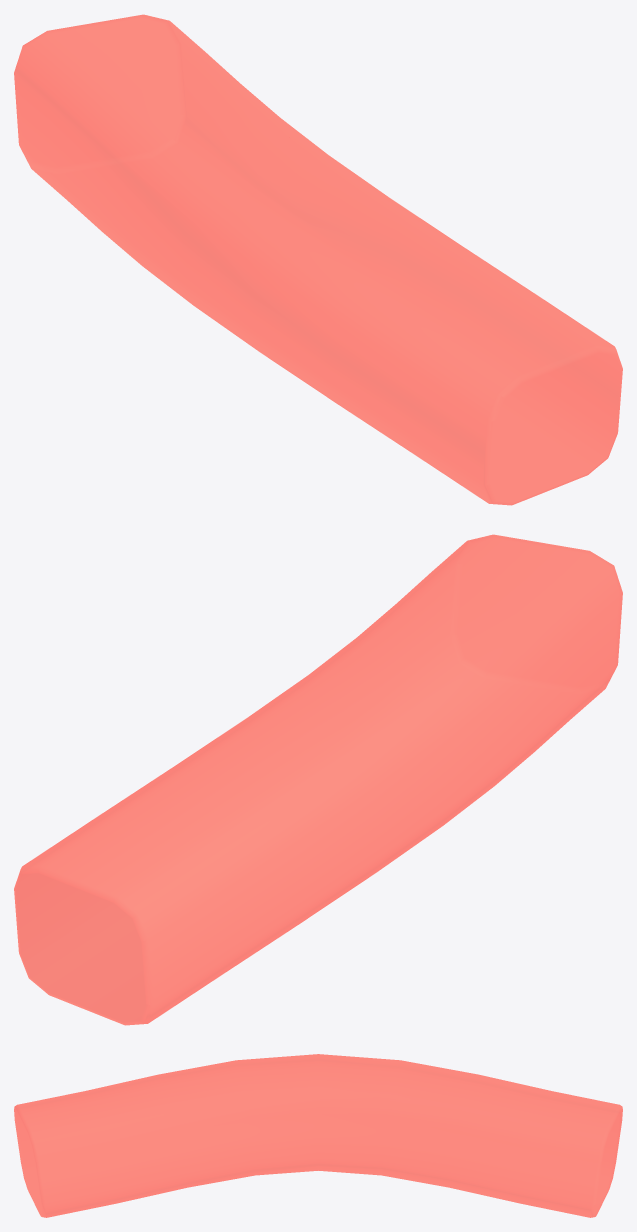
The model's file is bike_electric__tail_light.glb.
3 renders of one model, top to bottom at view 1: azimuth 30°, elevation 25°; view 2: azimuth 150°, elevation 25°; view 3: azimuth 270°, elevation 25°, orthographic. The views are drawn at different scales.
Parts seen in each view (by area): view 1: electrical__tail_light; view 2: electrical__tail_light; view 3: electrical__tail_light.
Part boxes in pixels (x1,y1,x2,y2): electrical__tail_light: (14, 14, 622, 505); electrical__tail_light: (14, 534, 622, 1025); electrical__tail_light: (14, 1054, 622, 1217).
Bounding box in the file's own units: 1.98 × 1.6 × 7.54.
